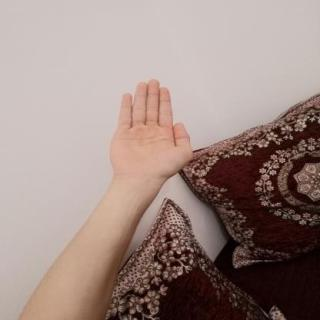SEEN: (102, 74, 200, 186)
